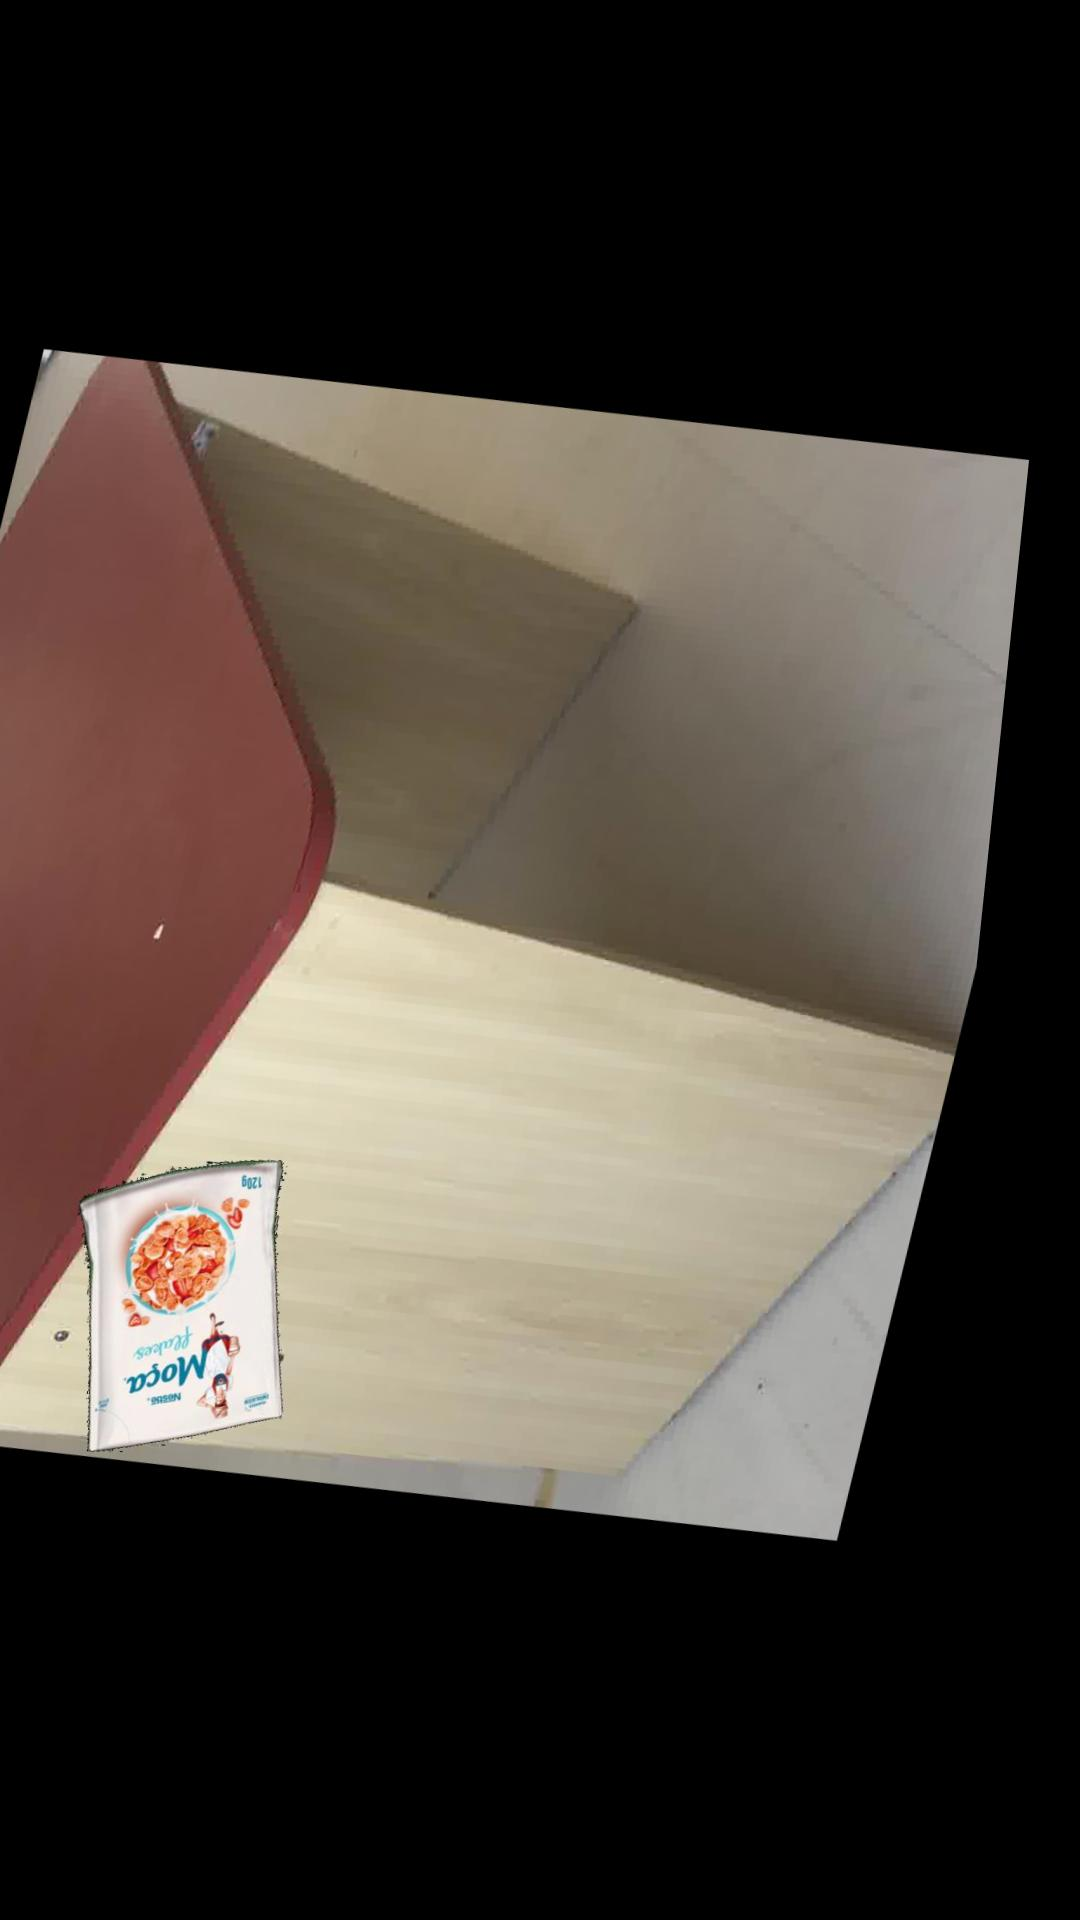corn flakes: (104, 1159, 314, 1451)
